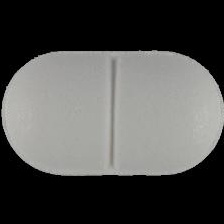63629-5198: (0, 0, 224, 224)
